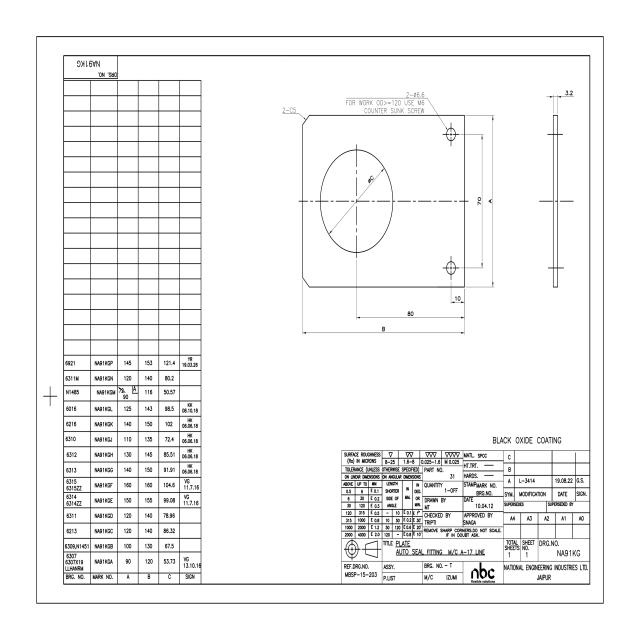dimension: (327, 166, 387, 237), (344, 90, 449, 130), (282, 106, 308, 121), (476, 196, 483, 207), (564, 89, 574, 96), (406, 310, 415, 317), (454, 295, 461, 302), (486, 198, 493, 205), (380, 325, 386, 332)
